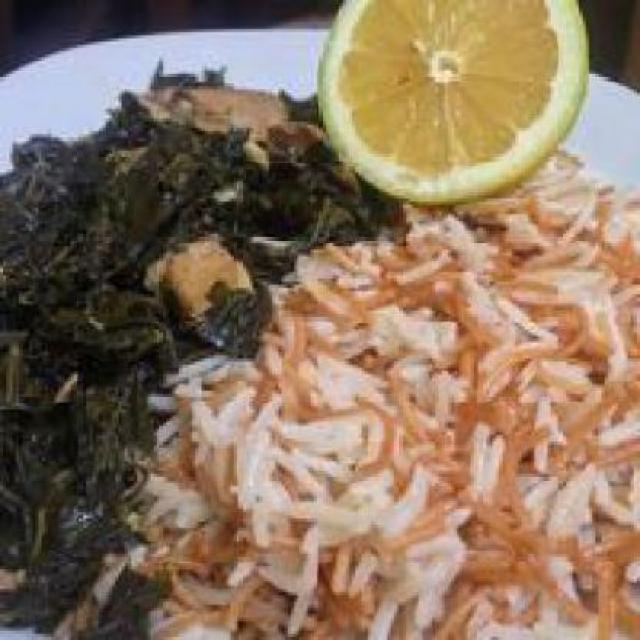molokhia: (3, 77, 332, 637)
